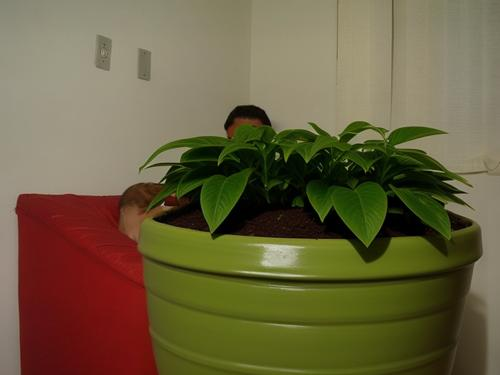chair: (12, 190, 394, 375)
person: (114, 100, 485, 375)
person/foot: (416, 234, 484, 283)
person/hand: (118, 206, 160, 255)
person/head: (222, 108, 279, 180)
pottedplant: (138, 121, 487, 375)
